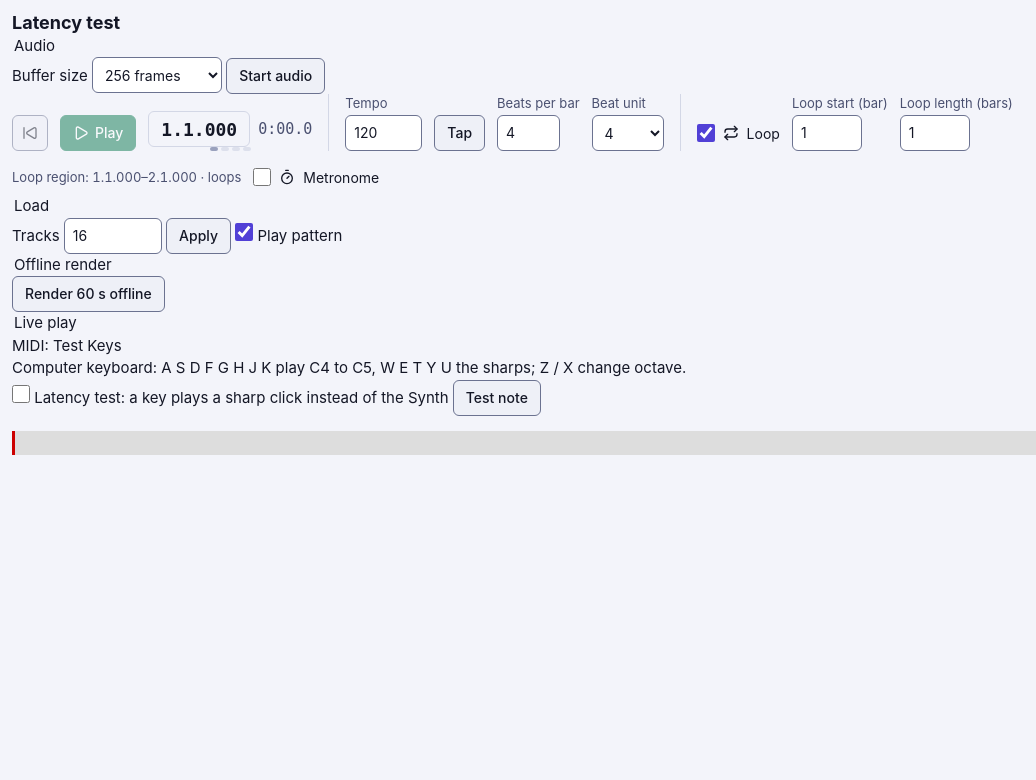
Test: on the desktop, a buffer size and audio host are chosen instead of a latency hint
Select "128 frames" in the dropdown labelled "Buffer size" at (157, 75), box [92, 57, 222, 93]
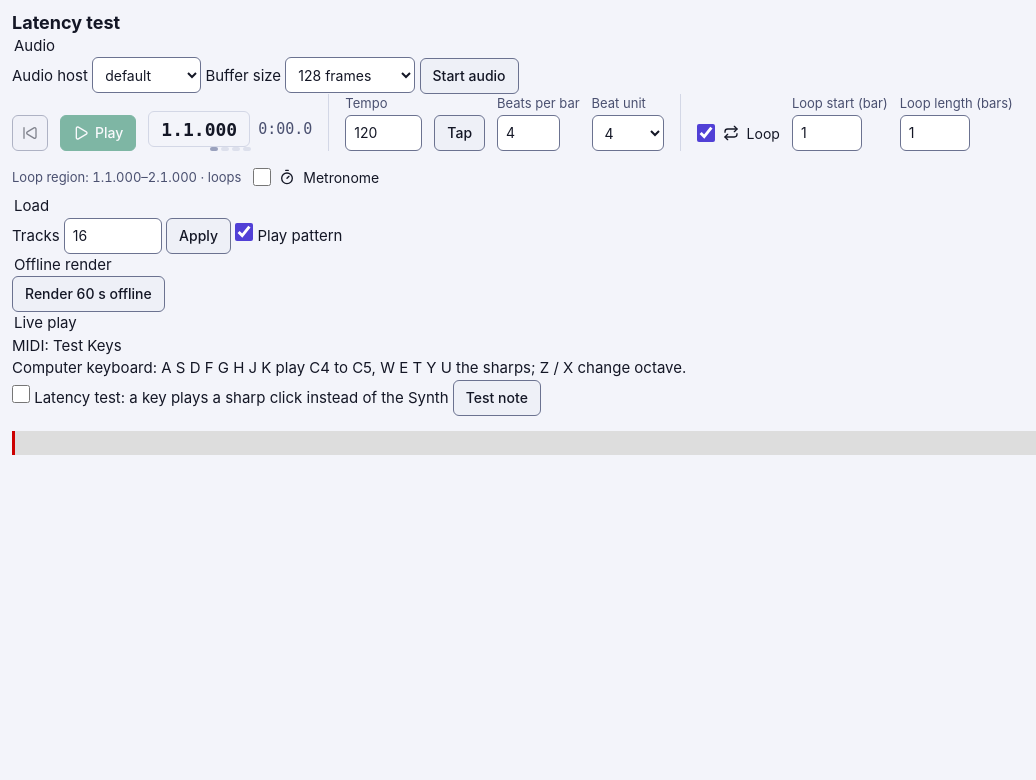
Select "ASIO" in the dropdown labelled "Audio host" at (147, 75), box [92, 57, 201, 93]
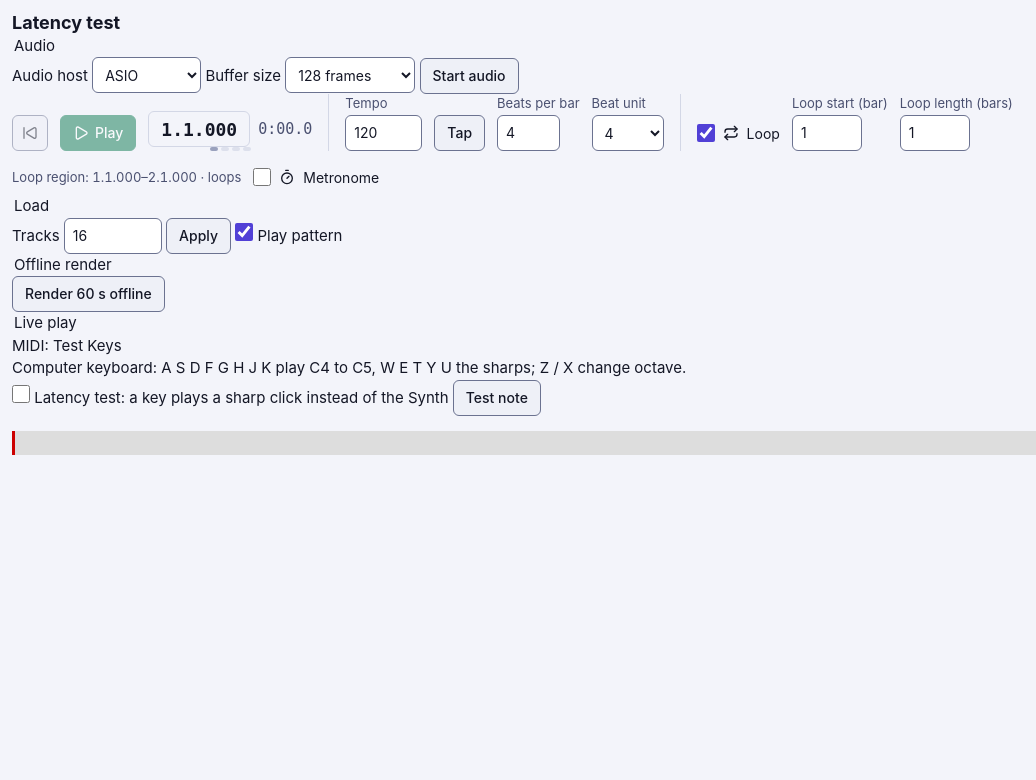
Click the button "Start audio".
click(469, 76)  # box [420, 58, 518, 94]
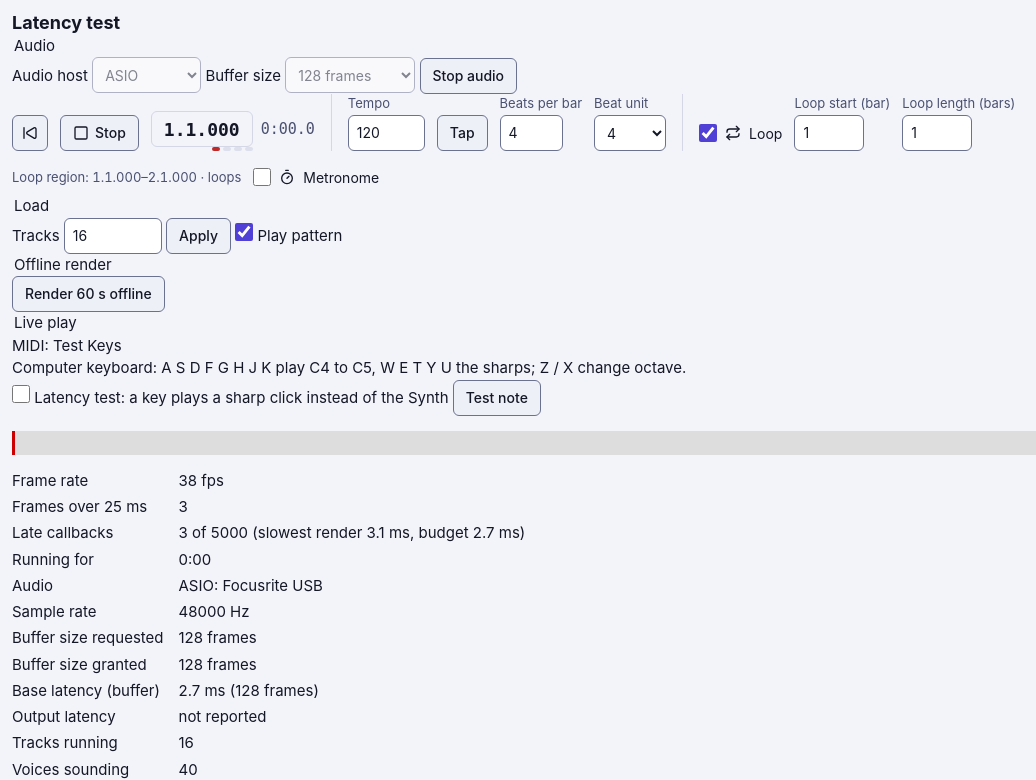
Result: the button "Stop audio" is shown at [420, 58, 517, 94]
Result: the text "3 of 5000 (slowest render 3.1 ms, budget 2.7 ms)" is shown at [178, 523, 525, 542]
Result: the text "Buffer size requested" is shown at [12, 627, 164, 650]
